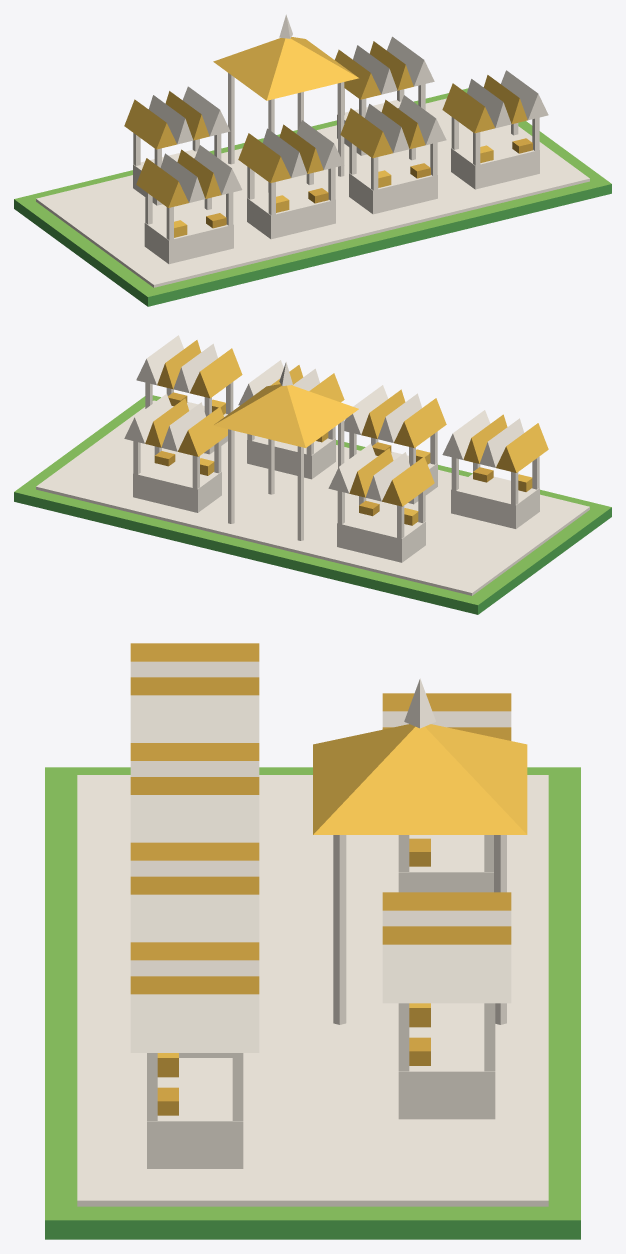
File: skill_decimal_market_t3.glb
The picture shows the model from 3 angles, top to bottom: view 1: azimuth 30°, elevation 25°; view 2: azimuth 150°, elevation 25°; view 3: azimuth 270°, elevation 25°; orthographic projection. The views are drawn at different scales.
Visible parts, largest first — view 1: plaza, base, stall_1, stall_2, stall_4, stall_3, stall_canopy, stall_5, stall_6; view 2: plaza, base, stall_1, stall_5, stall_6, stall_canopy, stall_2, stall_4, stall_3; view 3: plaza, base, stall_canopy, stall_6, stall_4, stall_3, stall_1, stall_2, stall_5.
Part boxes in pixels (x1=…): plaza: x1=36, y1=98, x2=589, y2=287; base: x1=14, y1=88, x2=611, y2=306; stall_1: x1=136, y1=145, x2=242, y2=264; stall_2: x1=238, y1=120, x2=344, y2=239; stall_4: x1=442, y1=70, x2=548, y2=189; stall_3: x1=340, y1=95, x2=446, y2=214; stall_canopy: x1=213, y1=14, x2=358, y2=192; stall_5: x1=124, y1=86, x2=230, y2=205; stall_6: x1=335, y1=36, x2=434, y2=155; plaza: x1=36, y1=400, x2=589, y2=595; base: x1=14, y1=395, x2=611, y2=614; stall_1: x1=442, y1=410, x2=548, y2=528; stall_5: x1=328, y1=443, x2=434, y2=562; stall_6: x1=124, y1=393, x2=227, y2=512; stall_canopy: x1=213, y1=362, x2=358, y2=540; stall_2: x1=344, y1=385, x2=446, y2=504; stall_4: x1=136, y1=335, x2=242, y2=454; stall_3: x1=238, y1=360, x2=344, y2=479; plaza: x1=77, y1=775, x2=548, y2=1206; base: x1=45, y1=767, x2=580, y2=1239; stall_canopy: x1=313, y1=678, x2=527, y2=1024; stall_6: x1=382, y1=892, x2=511, y2=1119; stall_4: x1=130, y1=942, x2=259, y2=1168; stall_3: x1=130, y1=842, x2=259, y2=1057; stall_1: x1=130, y1=643, x2=259, y2=742; stall_2: x1=130, y1=743, x2=259, y2=842; stall_5: x1=382, y1=693, x2=511, y2=892.
Size of the model in its own units: 2 by 0.69 by 1.
